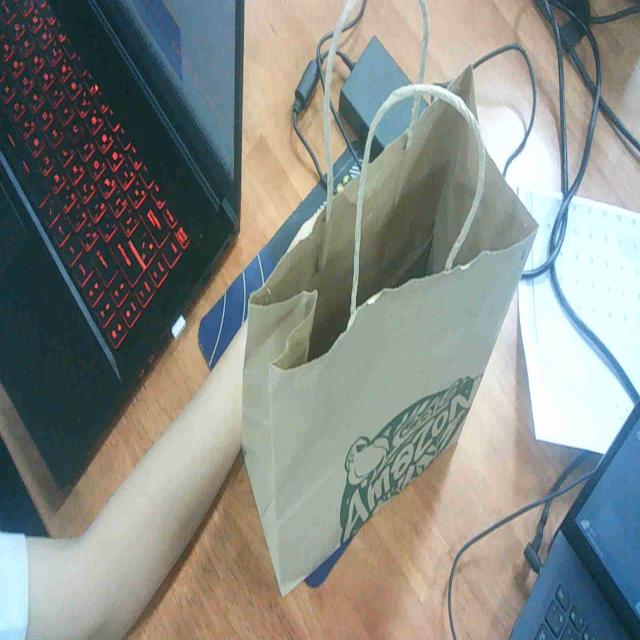bag: (225, 36, 560, 623)
